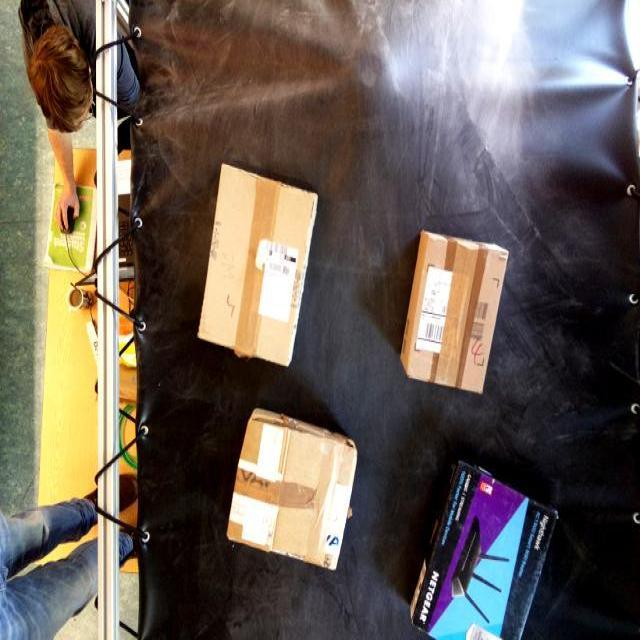Cardboard: (202, 162, 317, 364), (228, 402, 355, 572), (401, 228, 506, 400)
